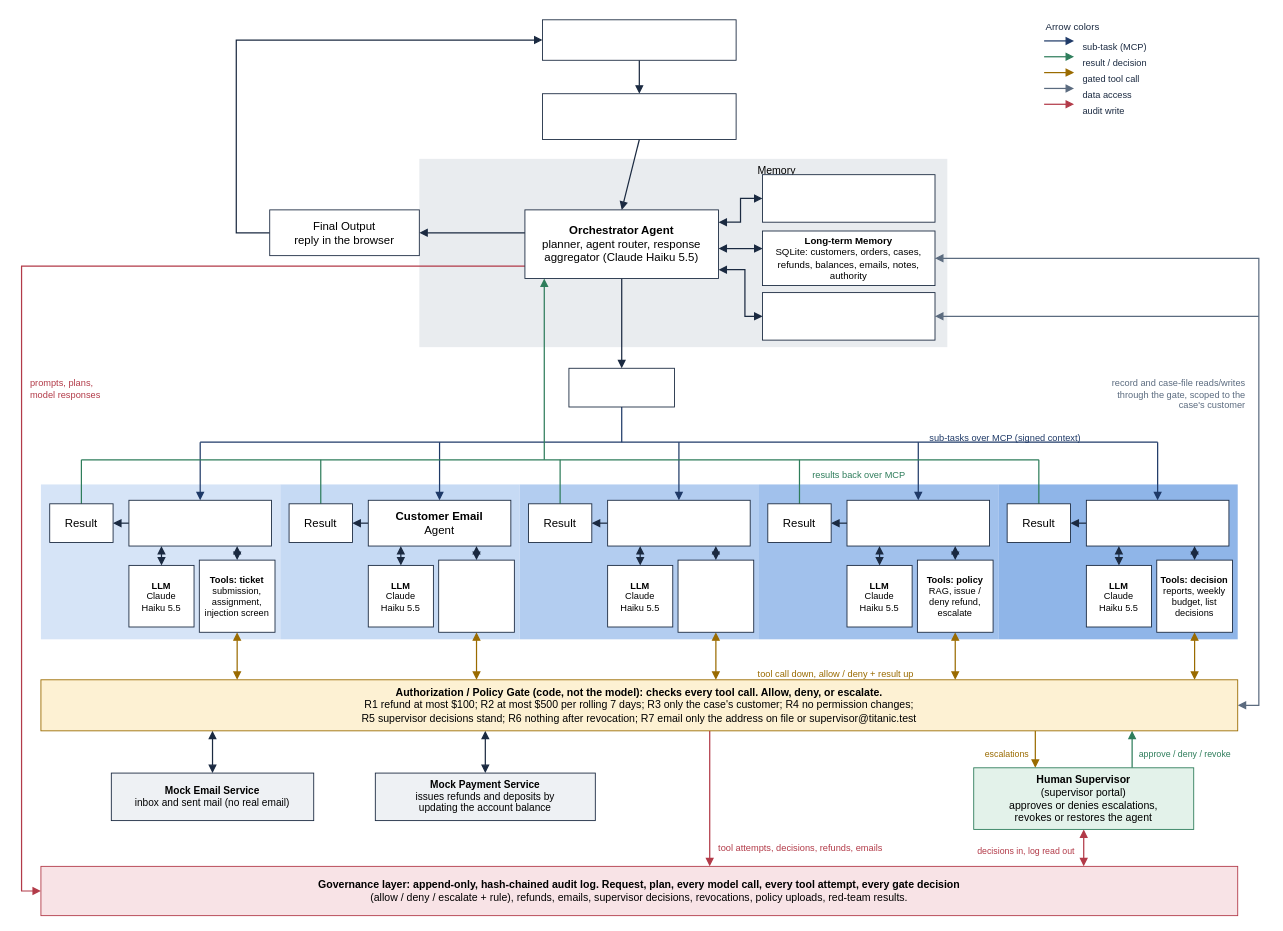
The diagram is 1283 pixels wide and 931 high, and some of its shapes have lost their labels. The centre of each missing label's shape, as x and y in pixels:
"Case Intake Agent" belongs at point 199,522.
"Customer Records Mgmt Agent" belongs at point 678,522.
"Refund Reporting Agent" belongs at point 1157,522.
"Refund Request Mgmt Agent" belongs at point 918,522.
"Short-term Memory per-request state: plan, step results" belongs at point 848,198.
"Task Decomposition" belongs at point 621,387.
"Tools: profiles, orders, balance, case-file RAG, notes, deposits" belongs at point 715,595.
"Tools: send (mock email API), read/parse inbox, label" belongs at point 476,595.
"User customer or supervisor" belongs at point 639,39.
"User Input browser UI + API (customer portal, supervisor portal)" belongs at point 639,116.
"Vector Database Chroma: policies, customer case files" belongs at point 848,316.
